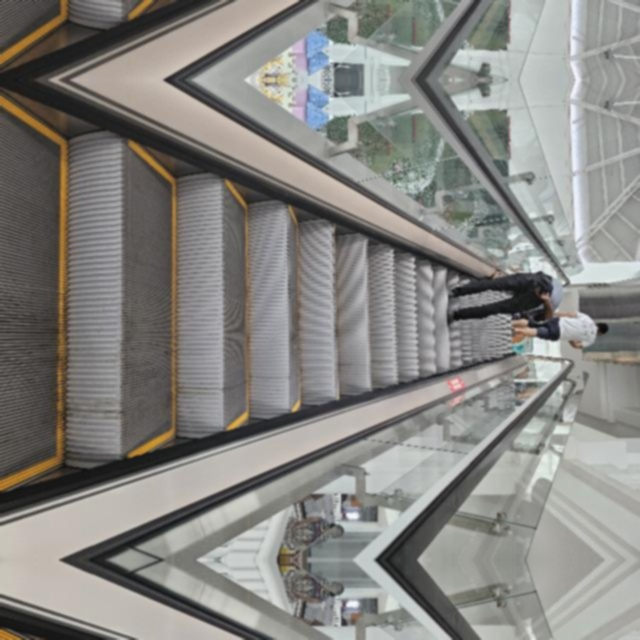person: (351, 156, 405, 274), (390, 111, 430, 209), (597, 376, 630, 438), (391, 0, 430, 49), (351, 0, 405, 3)
stair: (194, 201, 600, 640), (194, 399, 600, 640)
